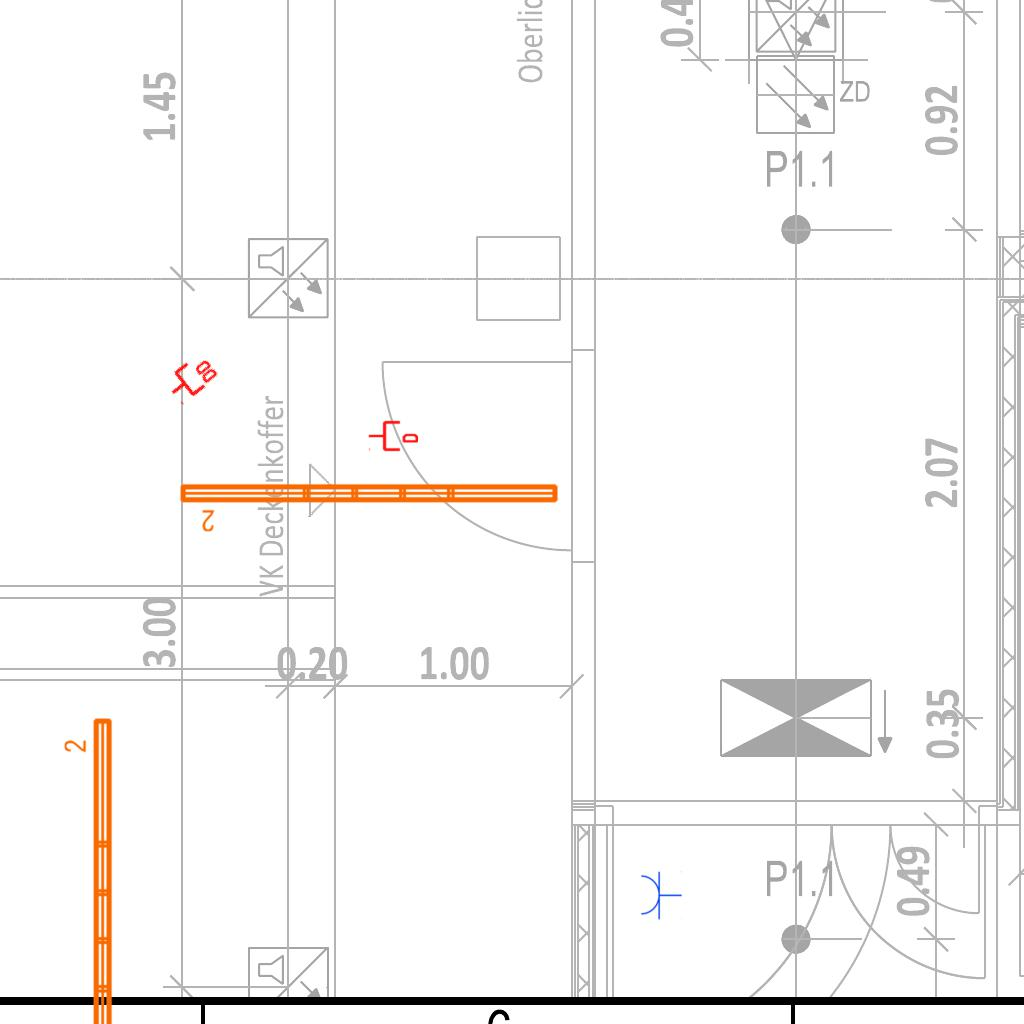Ambulanz_Pendelleuchte_LED: (176, 478, 563, 534), (62, 714, 118, 1024)
Datenanschluss_einfach: (368, 419, 418, 453)
Datenanschluss_zweifach: (160, 348, 222, 407)
Schukosteckdose_einfach: (639, 870, 682, 920)
